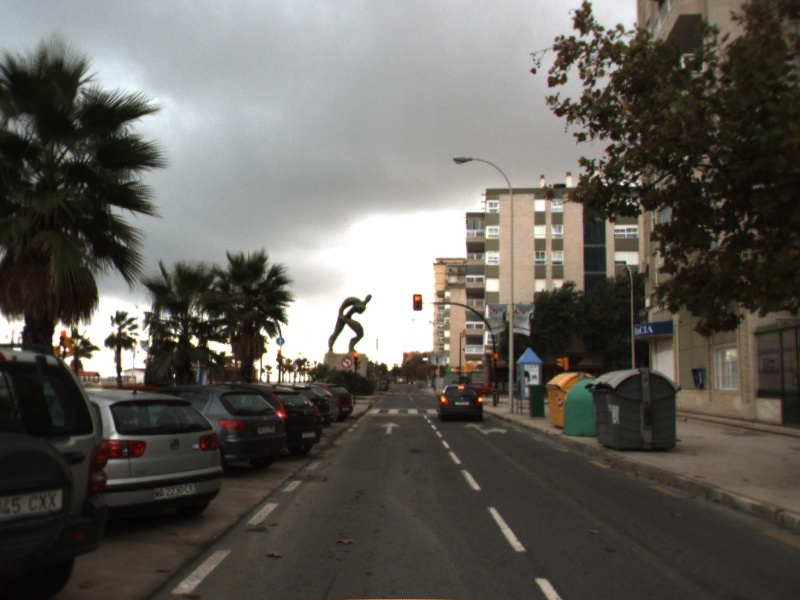STRAIGHT: (379, 420, 402, 436)
STRAIGHT_RIGHT: (462, 420, 510, 437)
